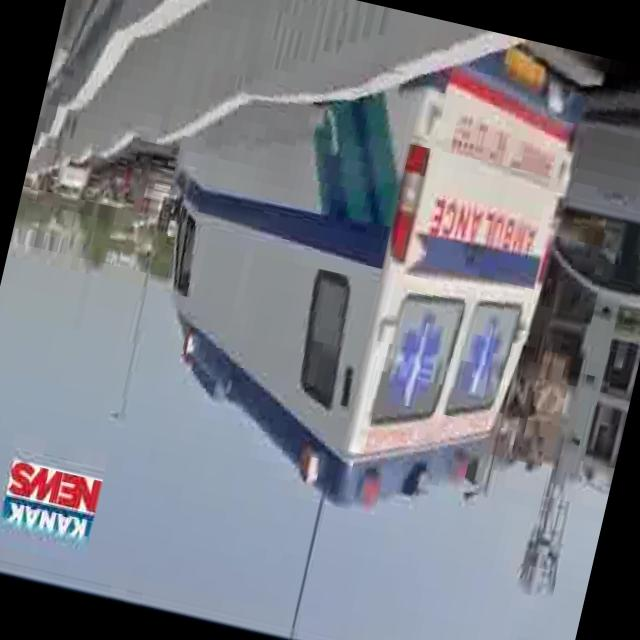ambulance: (88, 0, 597, 547)
